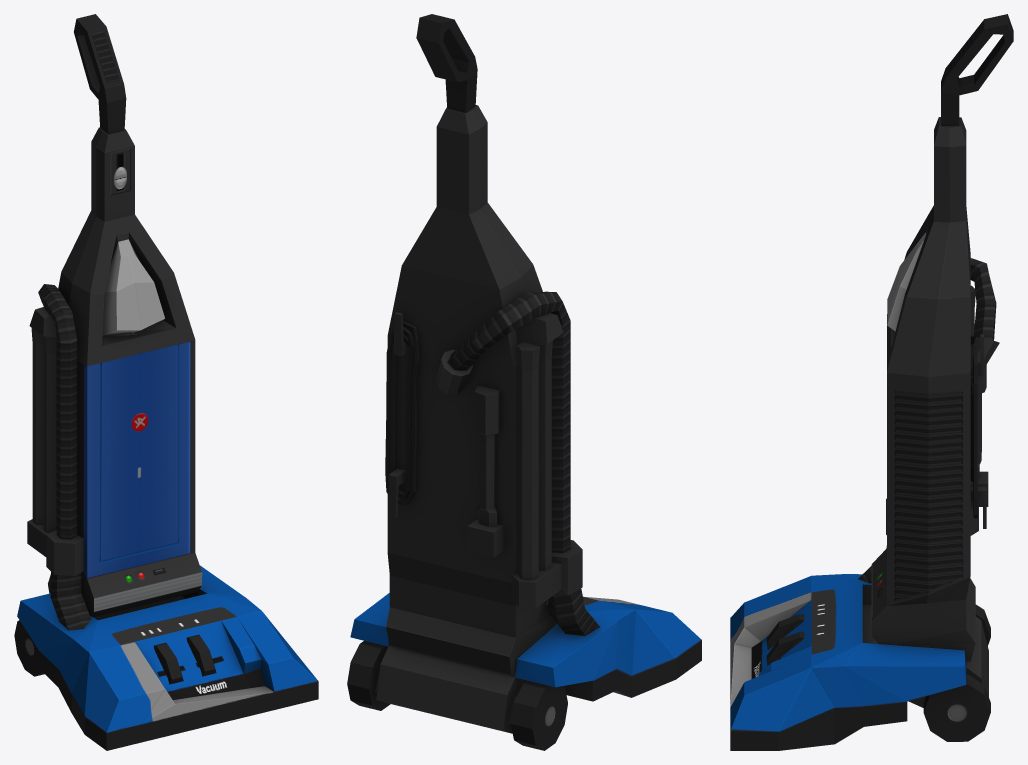
The model's file is Vacuum.obj.
3 renders of one model, left to right at view 1: azimuth 30°, elevation 25°; view 2: azimuth 150°, elevation 25°; view 3: azimuth 270°, elevation 25°, orthographic. The views are drawn at different scales.
Parts seen in each view (by area): view 1: Vacuum_mesh; view 2: Vacuum_mesh; view 3: Vacuum_mesh.
Part boxes in pixels (x1,y1,x2,y2): Vacuum_mesh: (14,14,318,750); Vacuum_mesh: (347,14,701,750); Vacuum_mesh: (730,14,1013,750).
Bounding box in the file's own units: 1.94 × 5.42 × 2.05.
Materials: 1 (1 with a texture image).
